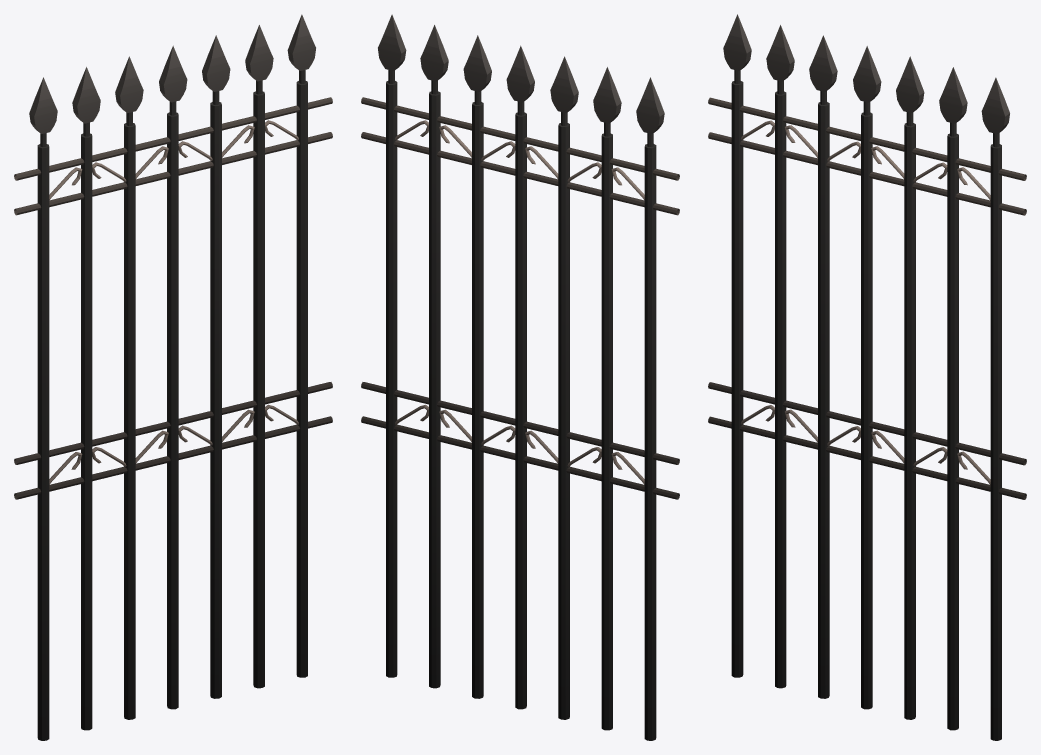
Rendered from Fence.fbx.
3 views of the same model, side by side, from view 1: azimuth 30°, elevation 25°; view 2: azimuth 150°, elevation 25°; view 3: azimuth 330°, elevation 25° (orthographic).
Parts seen in each view (by area): view 1: Cylinder.004; view 2: Cylinder.004; view 3: Cylinder.004.
Part boxes in pixels (left/top/right/bottom): Cylinder.004: left=14, top=14, right=332, bottom=740; Cylinder.004: left=361, top=14, right=679, bottom=740; Cylinder.004: left=708, top=14, right=1026, bottom=740.
Bounding box in the file's own units: 365 × 732 × 11.97.
Materials: 1 (1 with a texture image).
